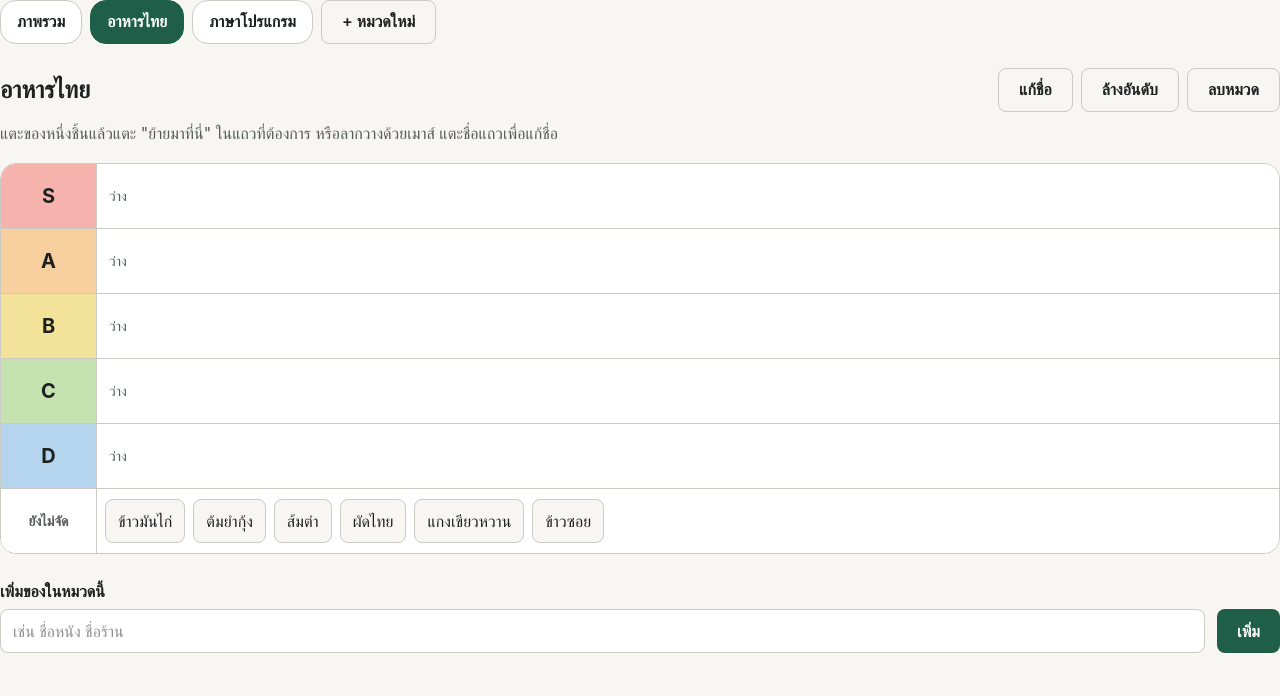
Test: TierBoard › toggles and cancels a selection, and deletes the selected item
The image size is (1280, 696).
Click the button "ผัดไทย" at [373, 521], box [340, 499, 406, 543]
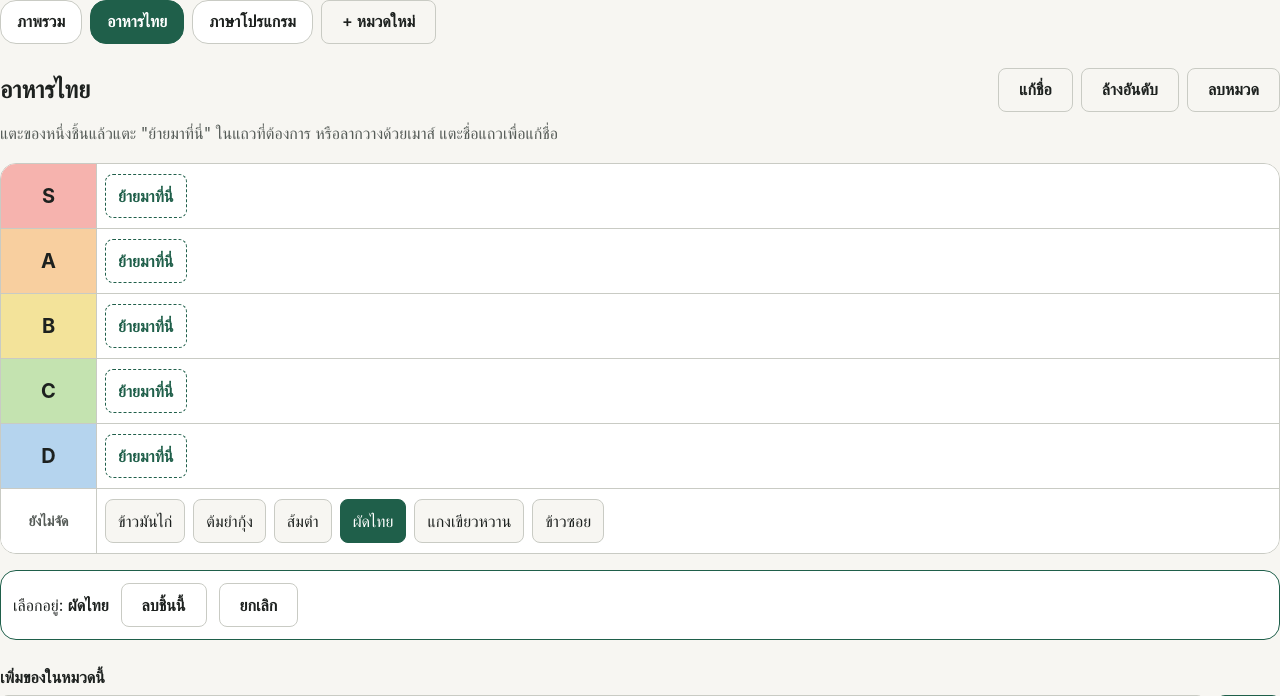
Click the button "ผัดไทย" at [373, 521], box [340, 499, 406, 543]
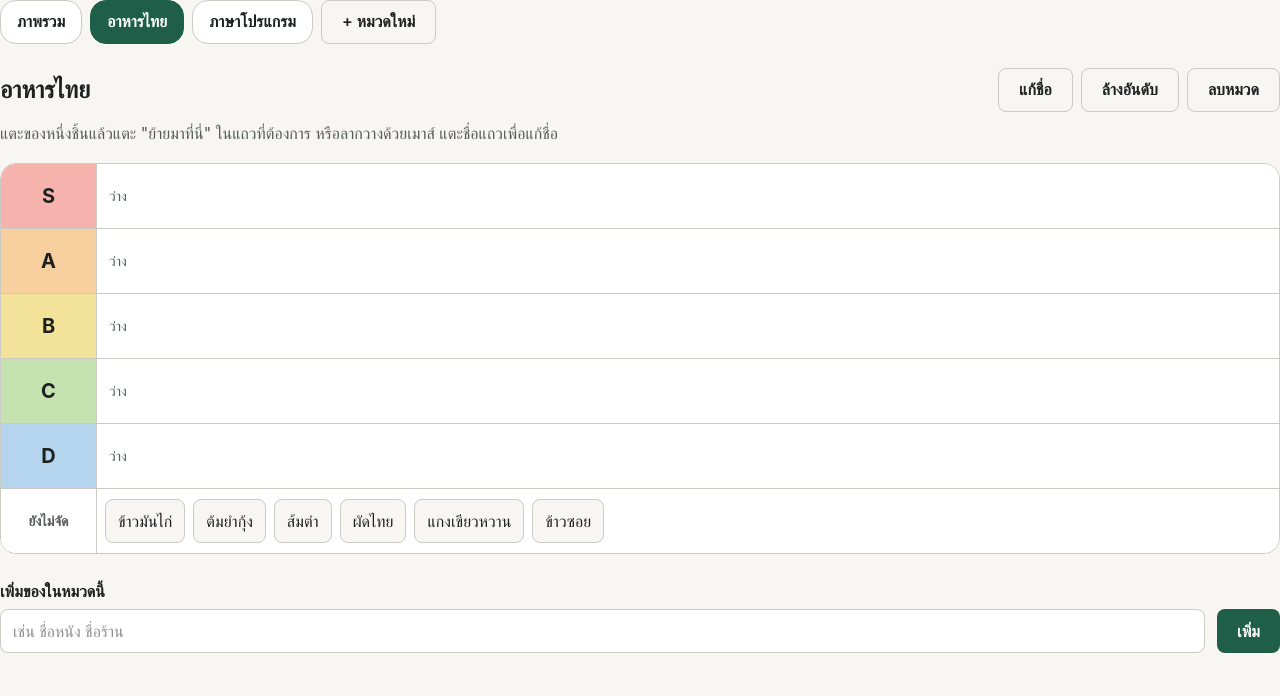
Result: the button "ผัดไทย" is not pressed
Click the button "ผัดไทย" at [373, 521], box [340, 499, 406, 543]
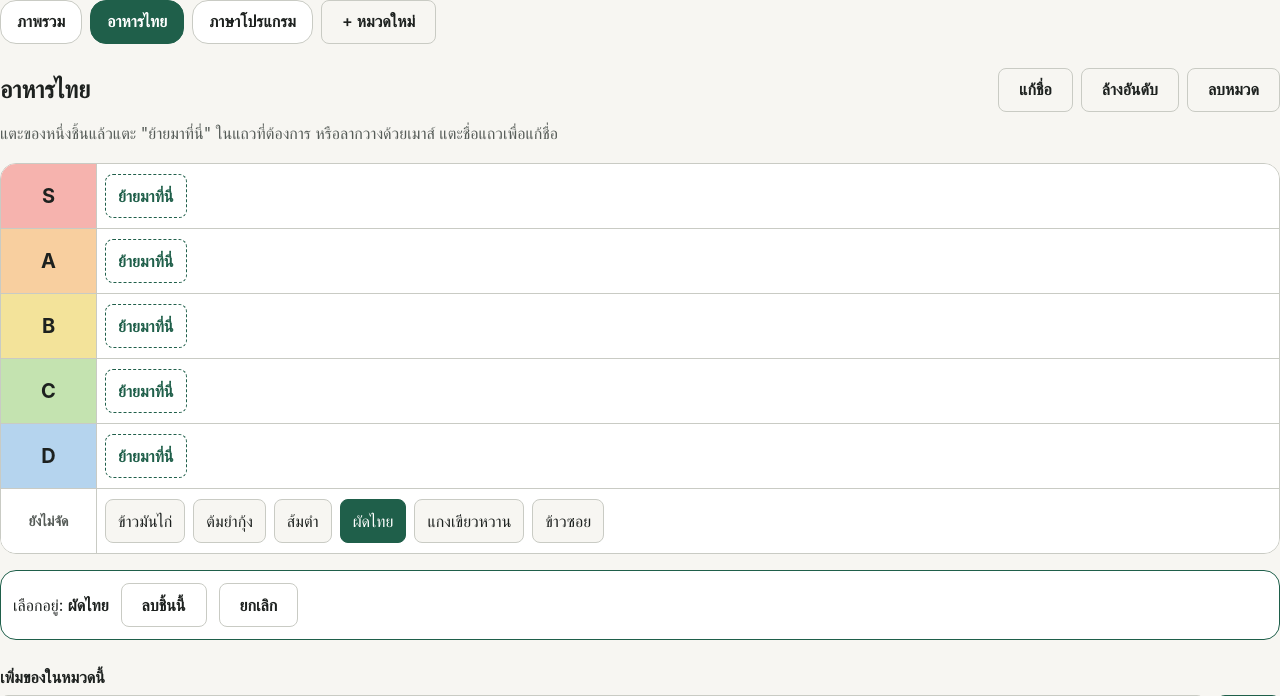
Click the button "ยกเลิก" at [258, 605], box [218, 583, 298, 627]
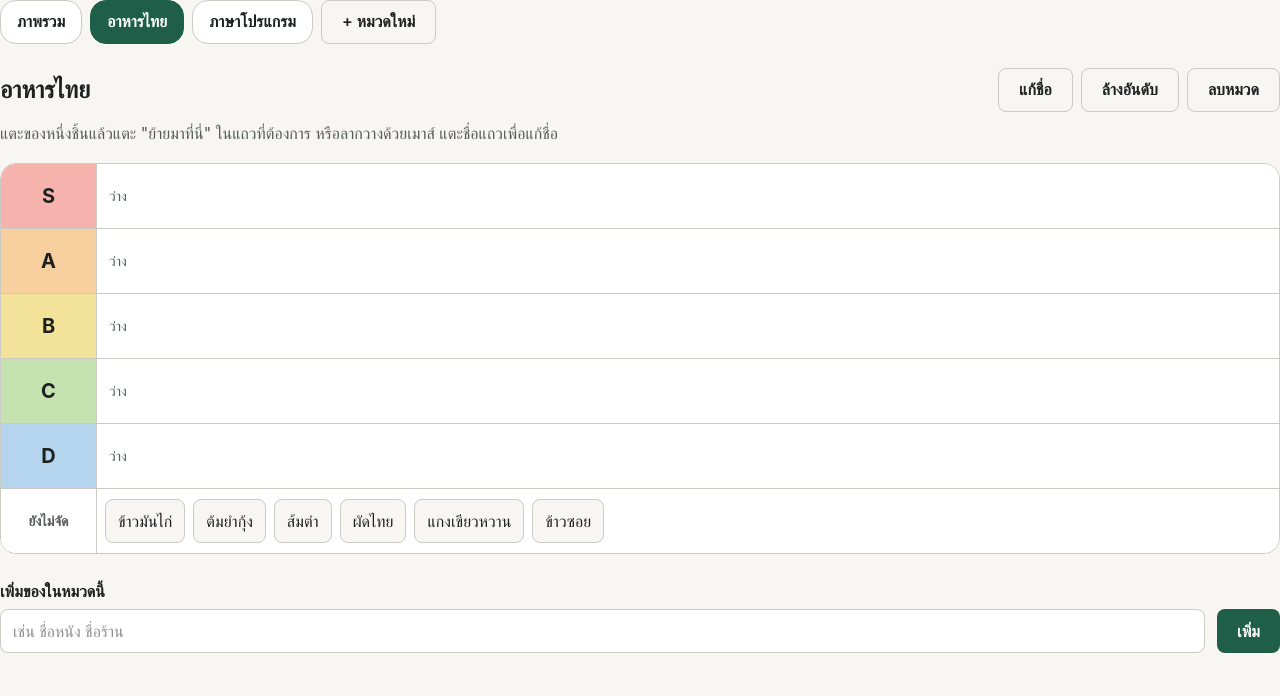
Result: the button "ลบชิ้นนี้" is gone
Click the button "ผัดไทย" at [373, 521], box [340, 499, 406, 543]
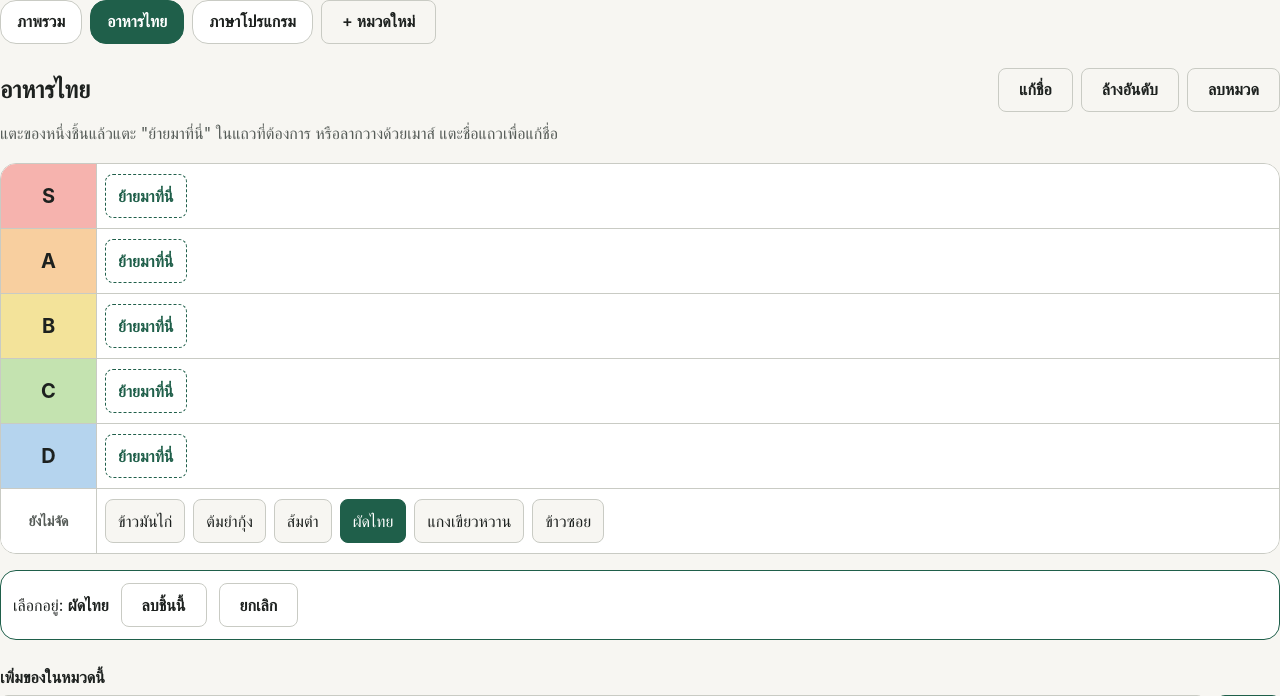
Click the button "ลบชิ้นนี้" at [164, 605], box [121, 583, 206, 627]
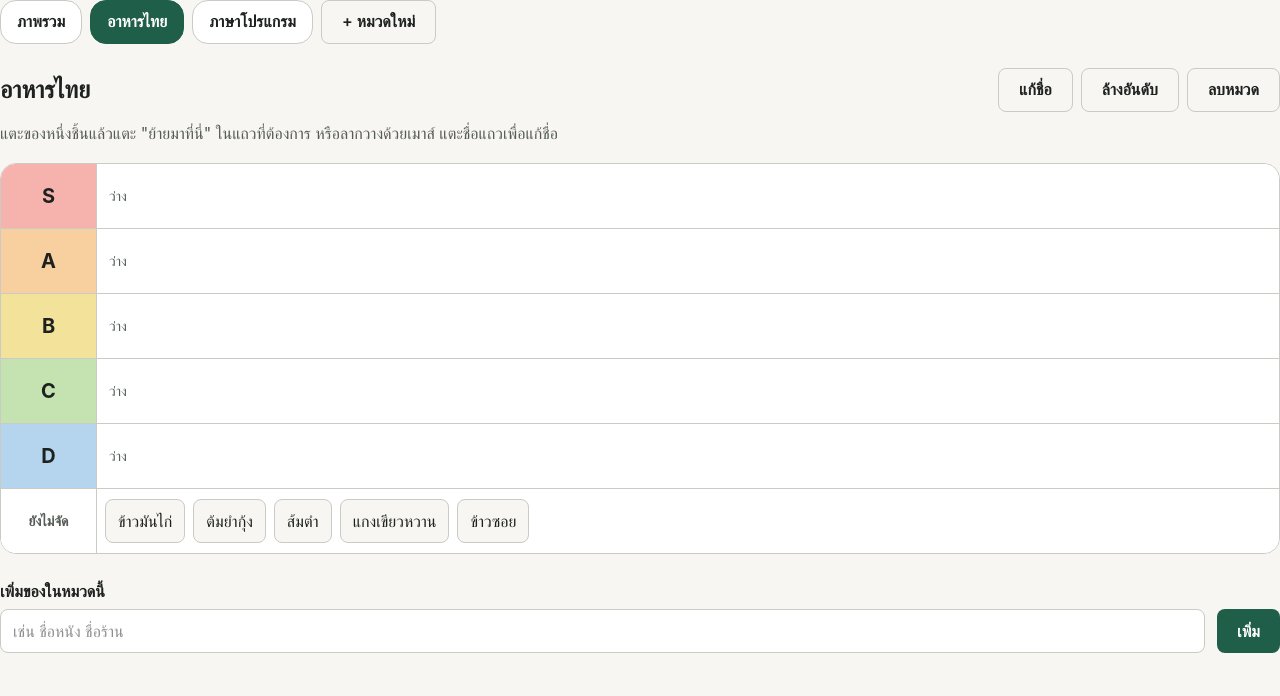
Result: the button "ผัดไทย" is gone
